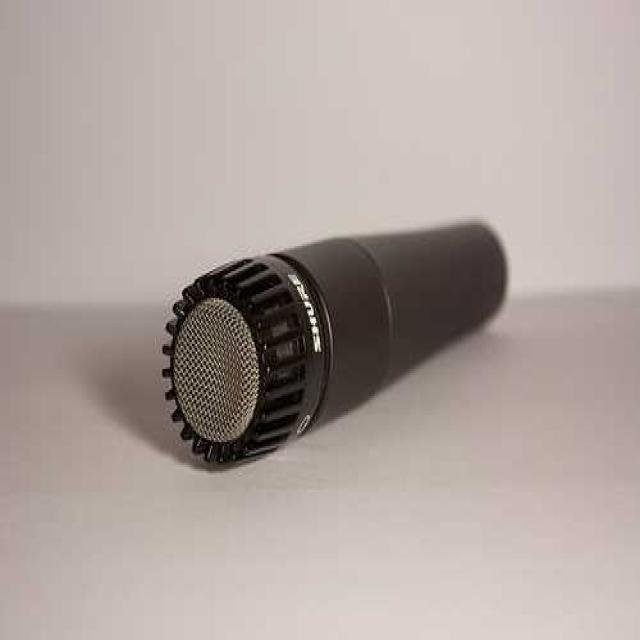microphone: (162, 214, 502, 468)
